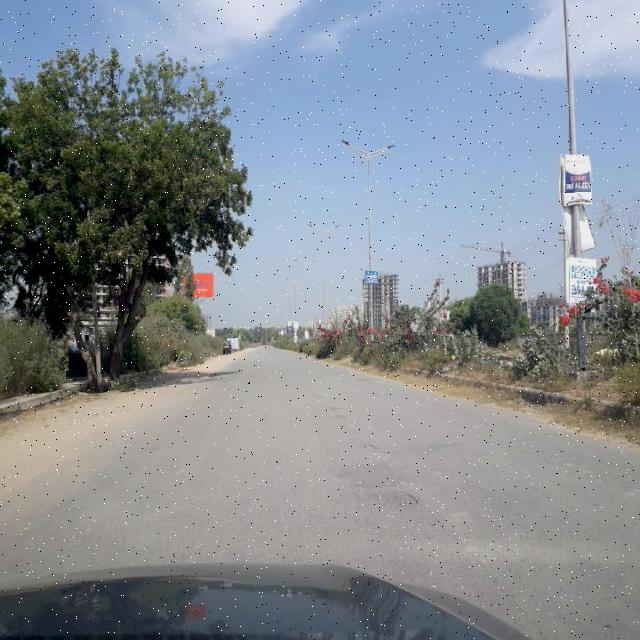D40: (364, 485, 424, 507)
